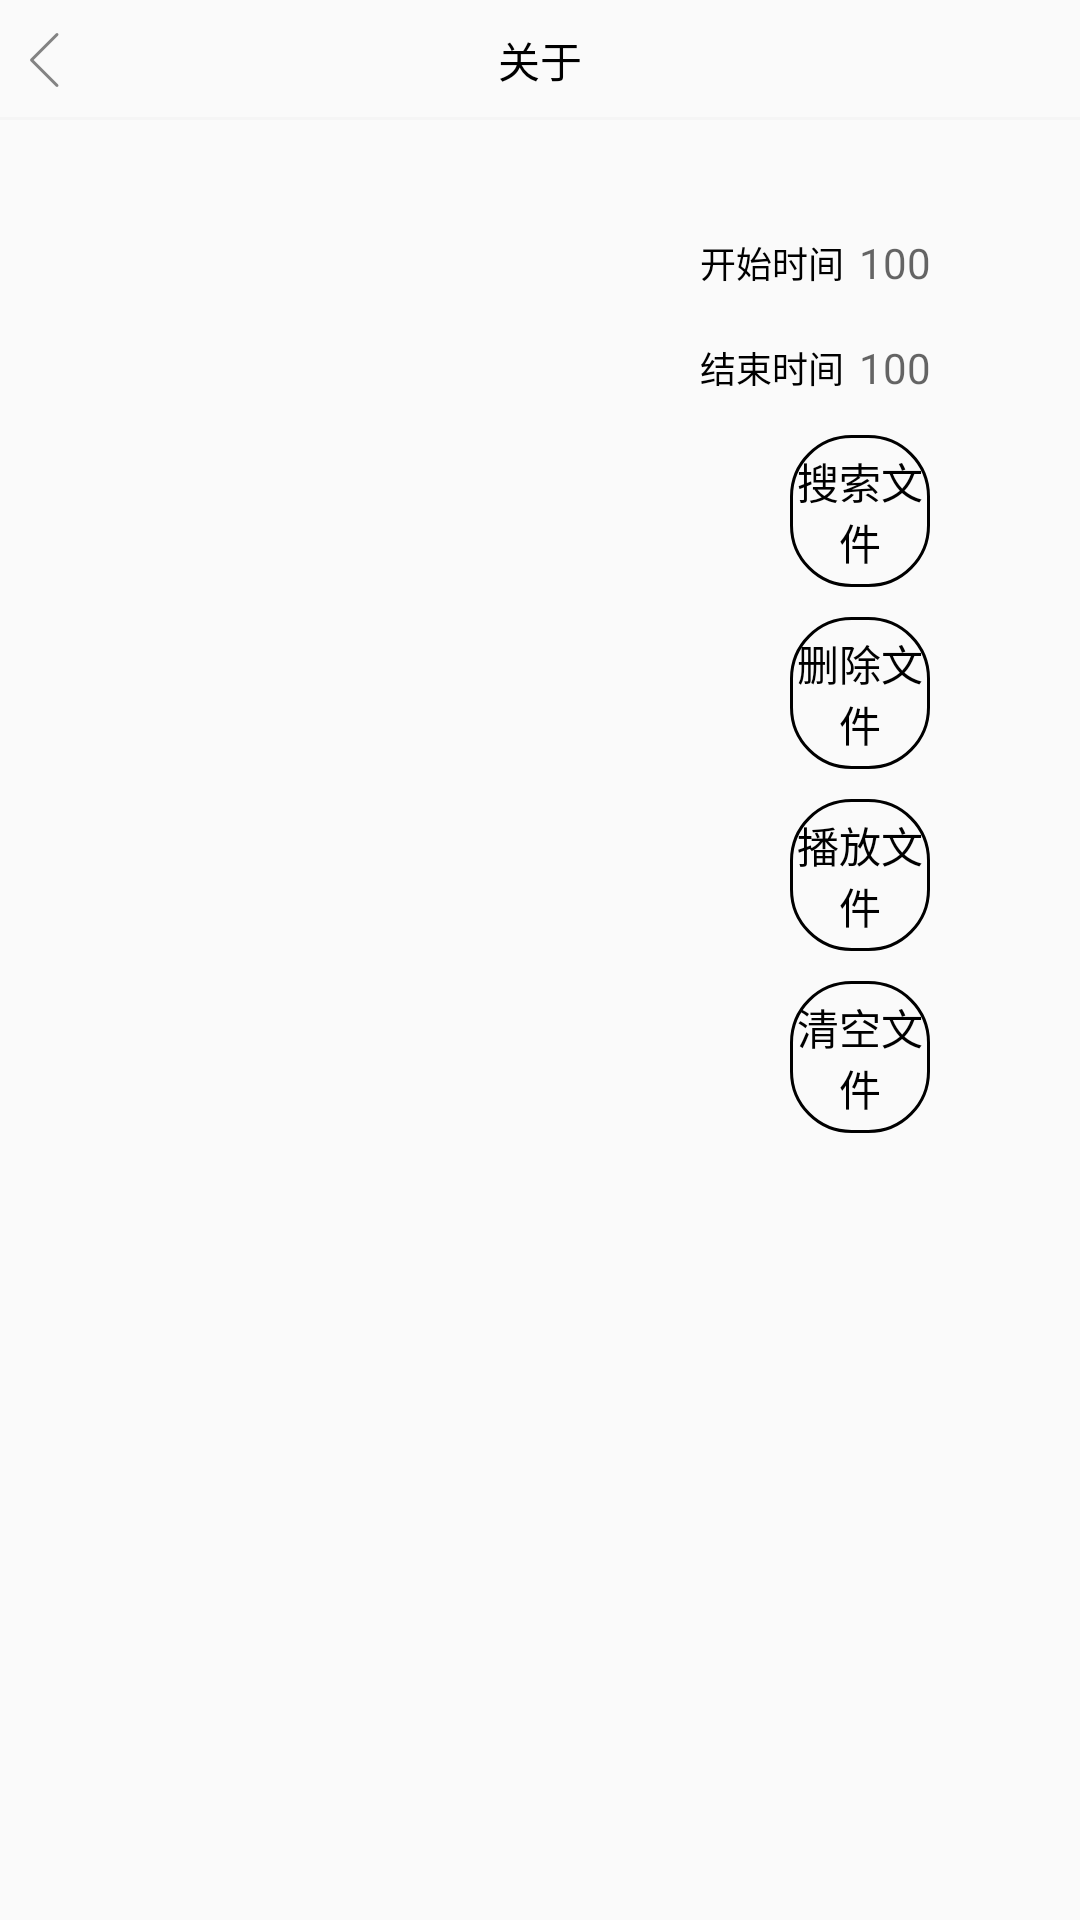

Where to tap for icons on this 1080px×1920px app screen, as (x=x, y=y):
back: (x=44, y=60)
